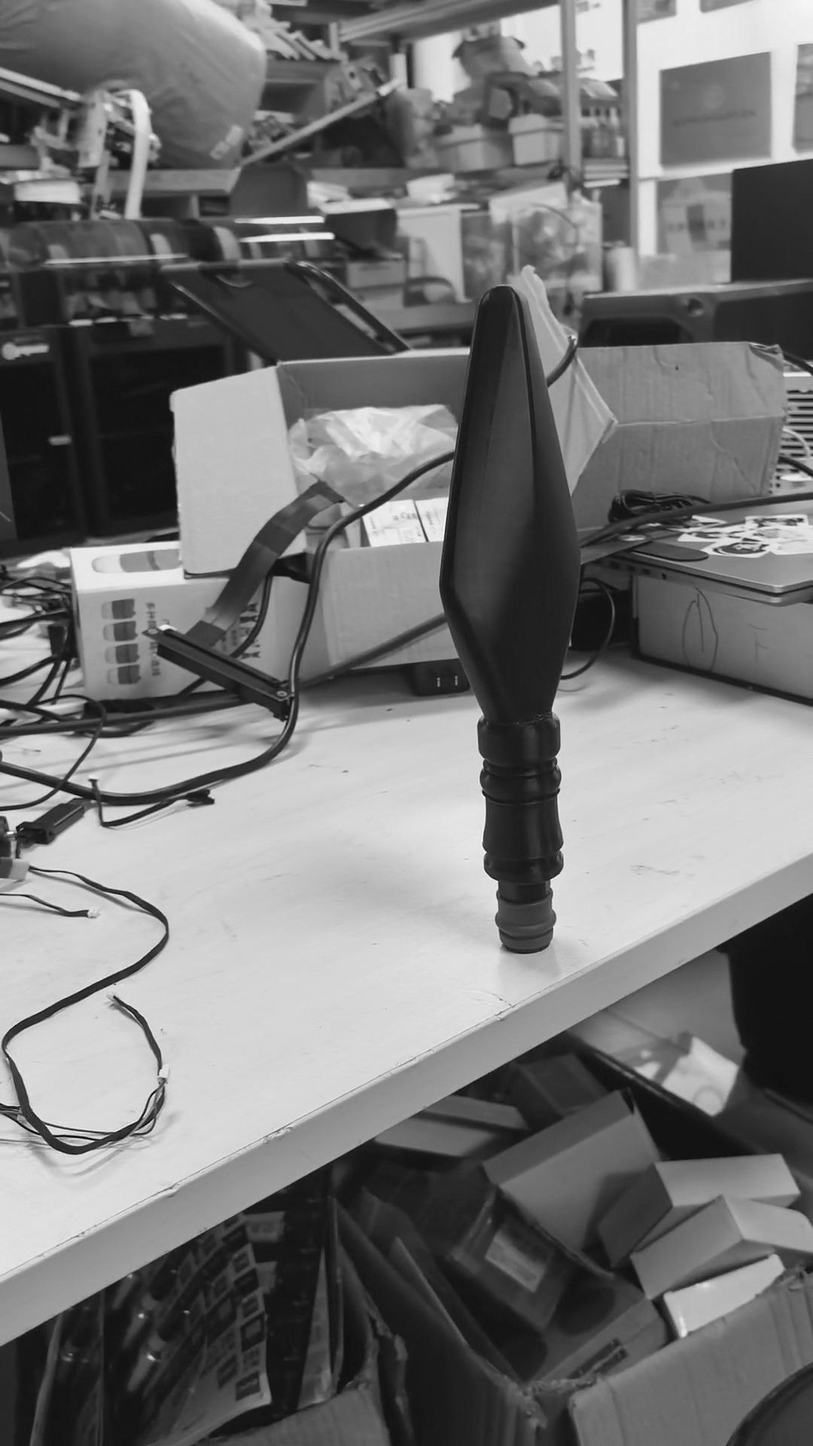base: (492, 881, 560, 956)
